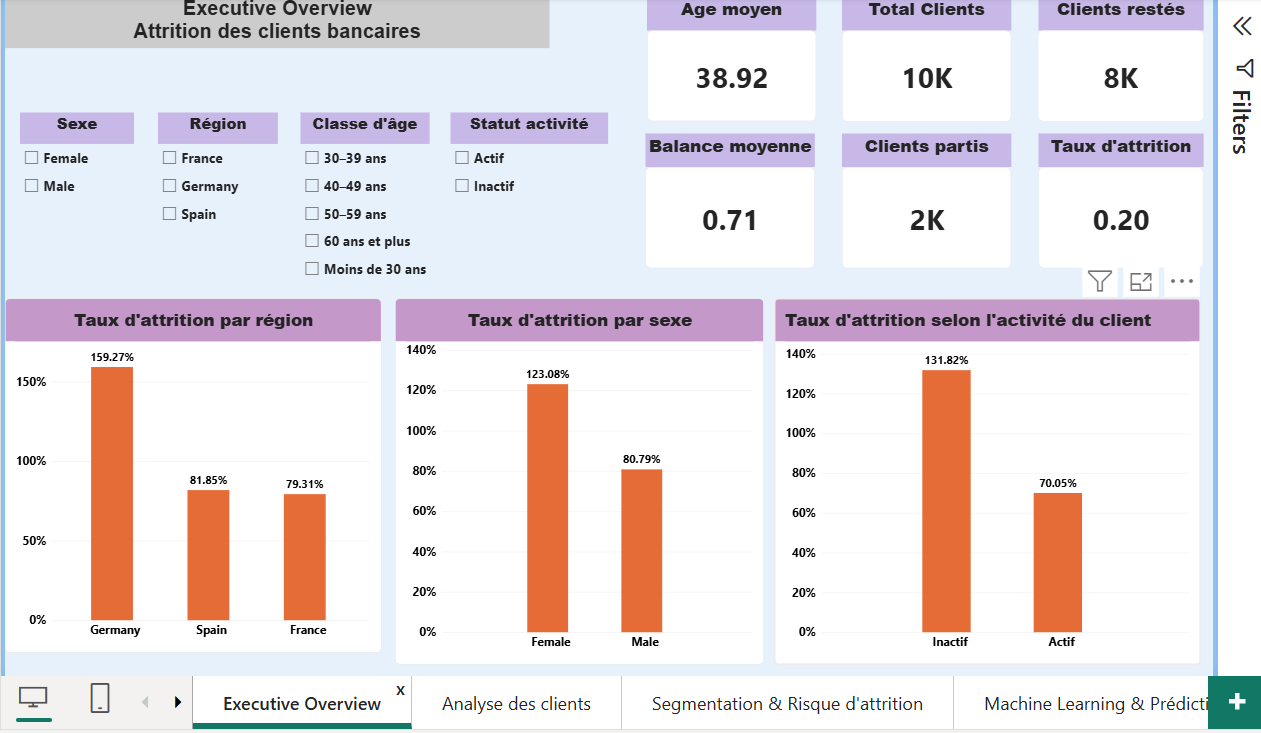

The page's visual inventory and layout, read from the dashboard file:
{"tool":"powerbi","page":{"name":"Executive Overview","canvas":[1920,1080],"ordinal":0},"visuals":[{"type":"cardVisual","title":"Total Clients","fields":{"Data":["Bank Churn Modelling.Total Clients"]},"box":[1331.3,0,269.3,198.4],"z":0},{"type":"cardVisual","title":"Clients partis","fields":{"Data":["Bank Churn Modelling.Clients partis"]},"box":[1331.3,217.1,269.6,214.7],"z":1},{"type":"cardVisual","title":"Clients restés","fields":{"Data":["Bank Churn Modelling.Clients restés"]},"box":[1643.9,0,262.5,198],"z":2},{"type":"cardVisual","title":"Taux d''attrition","fields":{"Data":["Bank Churn Modelling.Taux d'attrition"]},"box":[1643.9,217.1,262.5,214.7],"z":3},{"type":"cardVisual","title":"Age moyen","fields":{"Data":["Bank Churn Modelling.Age moyen"]},"box":[1021.2,0,269,198],"z":4},{"type":"cardVisual","title":"Balance moyenne","fields":{"Data":["Bank Churn Modelling.Balance moyenne"]},"box":[1018.8,217.1,269.6,214.7],"z":5},{"type":"clusteredColumnChart","title":"Taux d''attrition par région","fields":{"Category":["Bank Churn Modelling.Région"],"Y":["Bank Churn Modelling.Taux d'attrition"]},"box":[0,479.6,598.9,563.1],"z":6},{"type":"clusteredColumnChart","title":"Taux d''attrition par sexe","fields":{"Category":["Bank Churn Modelling.Sexe"],"Y":["Bank Churn Modelling.Taux d'attrition"]},"box":[620.3,479.6,586.9,582.2],"z":7},{"type":"clusteredColumnChart","title":"Taux d''attrition selon l''activité du client","fields":{"Category":["Bank Churn Modelling.Statut activité"],"Y":["Bank Churn Modelling.Taux d'attrition"]},"box":[1224,479.6,677.6,582.2],"z":8},{"type":"textbox","box":[0,0,866.1,81.1],"z":9},{"type":"slicer","title":"Région","fields":{"Values":["Bank Churn Modelling.Région"]},"box":[243.4,183.7,190.9,281.5],"z":10},{"type":"slicer","title":"Sexe","fields":{"Values":["Bank Churn Modelling.Sexe"]},"box":[23.9,183.7,181.3,264.8],"z":11},{"type":"slicer","title":"Classe d''âge","fields":{"Values":["Bank Churn Modelling.Classe d'âge"]},"box":[470,183.7,205.2,281.5],"z":12},{"type":"slicer","title":"Statut activité","fields":{"Values":["Bank Churn Modelling.Statut activité"]},"box":[708.6,183.7,250.5,281.5],"z":13}]}

Visuals, with their boxes on the page's 1920x1080 design canvas (x1, y1, x2, y2). These are canvas units, not pixel positions in the 1261x733 screenshot, which may show the page scaled, cropped or inside an application window:
"Total Clients" cardVisual: locate(1331, 0, 1601, 198)
"Clients partis" cardVisual: locate(1331, 217, 1601, 432)
"Clients restés" cardVisual: locate(1644, 0, 1906, 198)
"Taux d''attrition" cardVisual: locate(1644, 217, 1906, 432)
"Age moyen" cardVisual: locate(1021, 0, 1290, 198)
"Balance moyenne" cardVisual: locate(1019, 217, 1288, 432)
"Taux d''attrition par région" clusteredColumnChart: locate(0, 480, 599, 1043)
"Taux d''attrition par sexe" clusteredColumnChart: locate(620, 480, 1207, 1062)
"Taux d''attrition selon l''activité du client" clusteredColumnChart: locate(1224, 480, 1902, 1062)
textbox: locate(0, 0, 866, 81)
"Région" slicer: locate(243, 184, 434, 465)
"Sexe" slicer: locate(24, 184, 205, 448)
"Classe d''âge" slicer: locate(470, 184, 675, 465)
"Statut activité" slicer: locate(709, 184, 959, 465)
